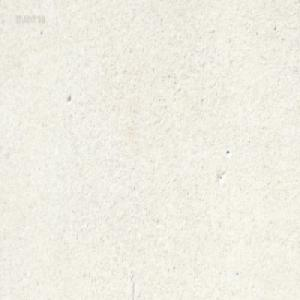Wrench: (109, 0, 115, 4)
